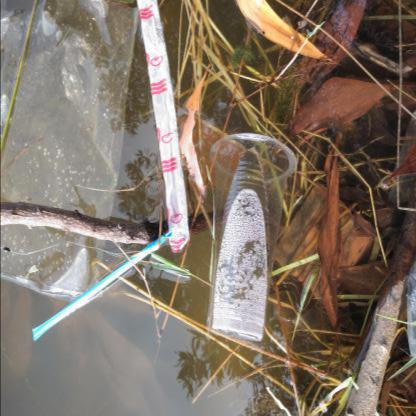Cup: (207, 134, 296, 342)
Plastic bag - wrapper: (0, 0, 139, 301), (136, 0, 189, 253), (387, 110, 416, 206), (407, 255, 416, 358)
Straw: (32, 229, 173, 341)
